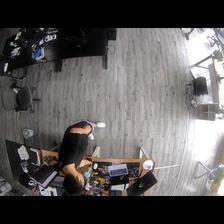normal: (58, 118, 105, 194)
